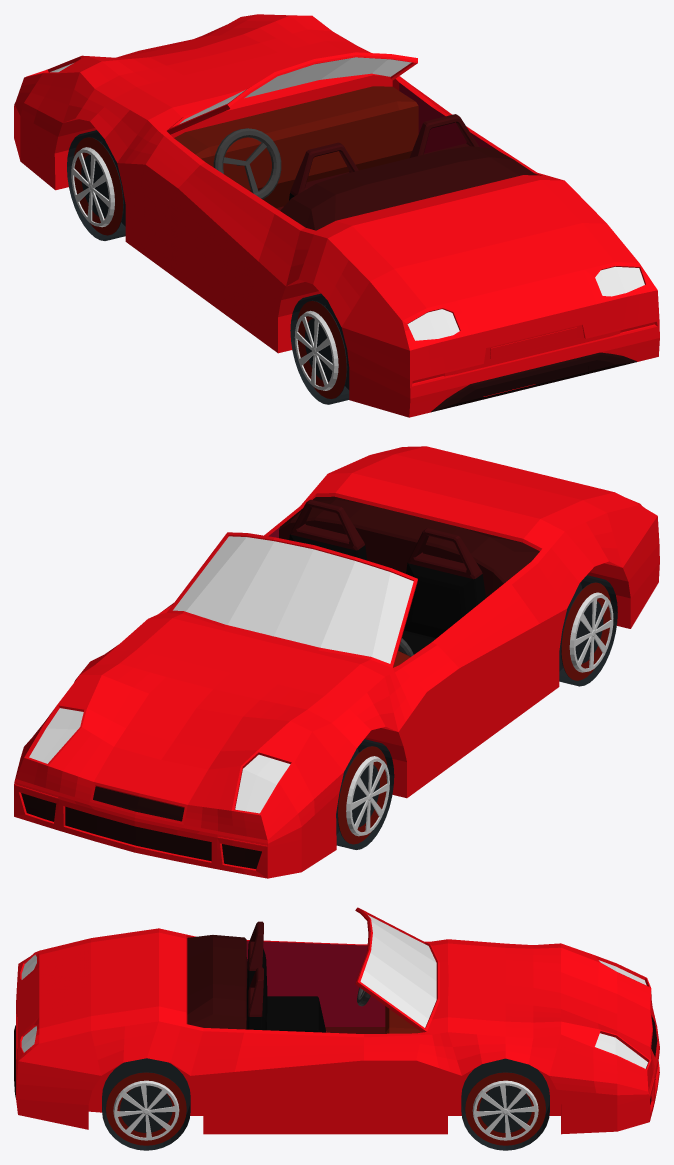
The model's file is car0.fbx.
3 views of the same model, one above another, from view 1: azimuth 30°, elevation 25°; view 2: azimuth 150°, elevation 25°; view 3: azimuth 270°, elevation 25° (orthographic). The views are drawn at different scales.
Parts seen in each view (by area): view 1: car, wheels; view 2: car, wheels; view 3: car, wheels.
Part boxes in pixels (<box>): car: <box>14,14,659,417</box>; wheels: <box>67,130,349,404</box>; car: <box>14,446,659,878</box>; wheels: <box>336,575,617,849</box>; car: <box>14,907,659,1134</box>; wheels: <box>102,1058,549,1150</box>.
Bounding box in the file's own units: 429 × 301 × 1063.
